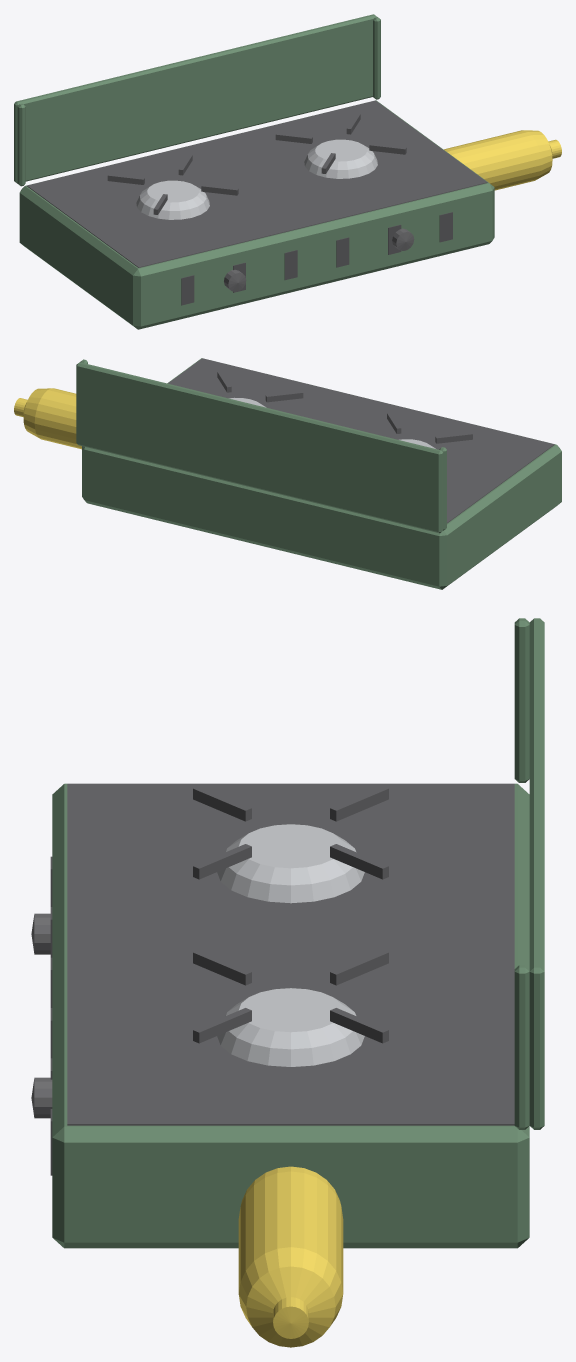
The model's file is fogareiro.glb.
3 views of the same model, one above another, from view 1: azimuth 30°, elevation 25°; view 2: azimuth 150°, elevation 25°; view 3: azimuth 270°, elevation 25° (orthographic). The views are drawn at different scales.
Visible parts, largest first — view 1: fogareiro_tinta_verde, fogareiro_esmalte_escuro, fogareiro_tinta_amarela, fogareiro_aco, fogareiro_borracha, fogareiro_plastico_preto; view 2: fogareiro_tinta_verde, fogareiro_esmalte_escuro, fogareiro_tinta_amarela; view 3: fogareiro_esmalte_escuro, fogareiro_tinta_verde, fogareiro_tinta_amarela, fogareiro_aco, fogareiro_plastico_preto.
Part boxes in pixels (box(x1,y1,x2,y2)): fogareiro_tinta_verde: box(14, 14, 494, 329); fogareiro_esmalte_escuro: box(27, 100, 487, 267); fogareiro_tinta_amarela: box(444, 130, 561, 190); fogareiro_aco: box(136, 139, 377, 219); fogareiro_borracha: box(181, 212, 452, 305); fogareiro_plastico_preto: box(224, 228, 414, 291); fogareiro_tinta_verde: box(76, 358, 561, 589); fogareiro_esmalte_escuro: box(168, 358, 554, 523); fogareiro_tinta_amarela: box(14, 388, 81, 449); fogareiro_esmalte_escuro: box(67, 783, 514, 1125); fogareiro_tinta_verde: box(52, 618, 544, 1248); fogareiro_tinta_amarela: box(238, 1166, 343, 1347); fogareiro_aco: box(217, 824, 364, 1066); fogareiro_plastico_preto: box(31, 913, 52, 1118).
Size of the model in its own units: 0.746 by 0.21 by 0.344.
